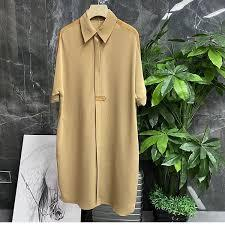shirt: (36, 8, 153, 219)
